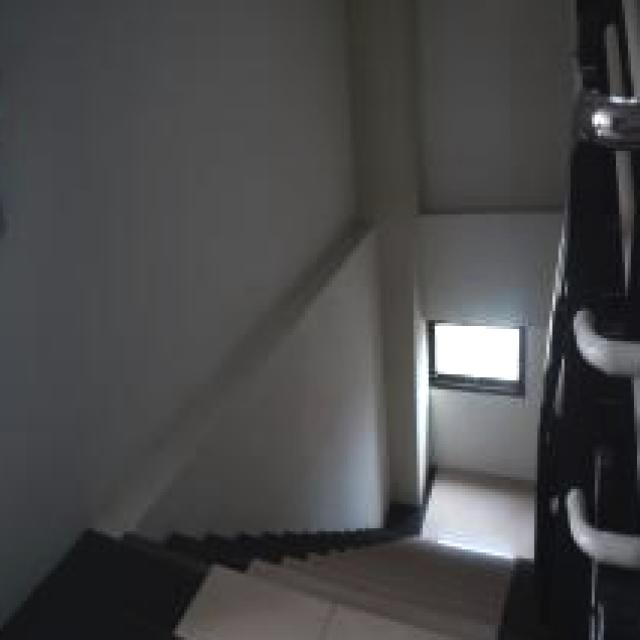downstair: (300, 499, 523, 640)
